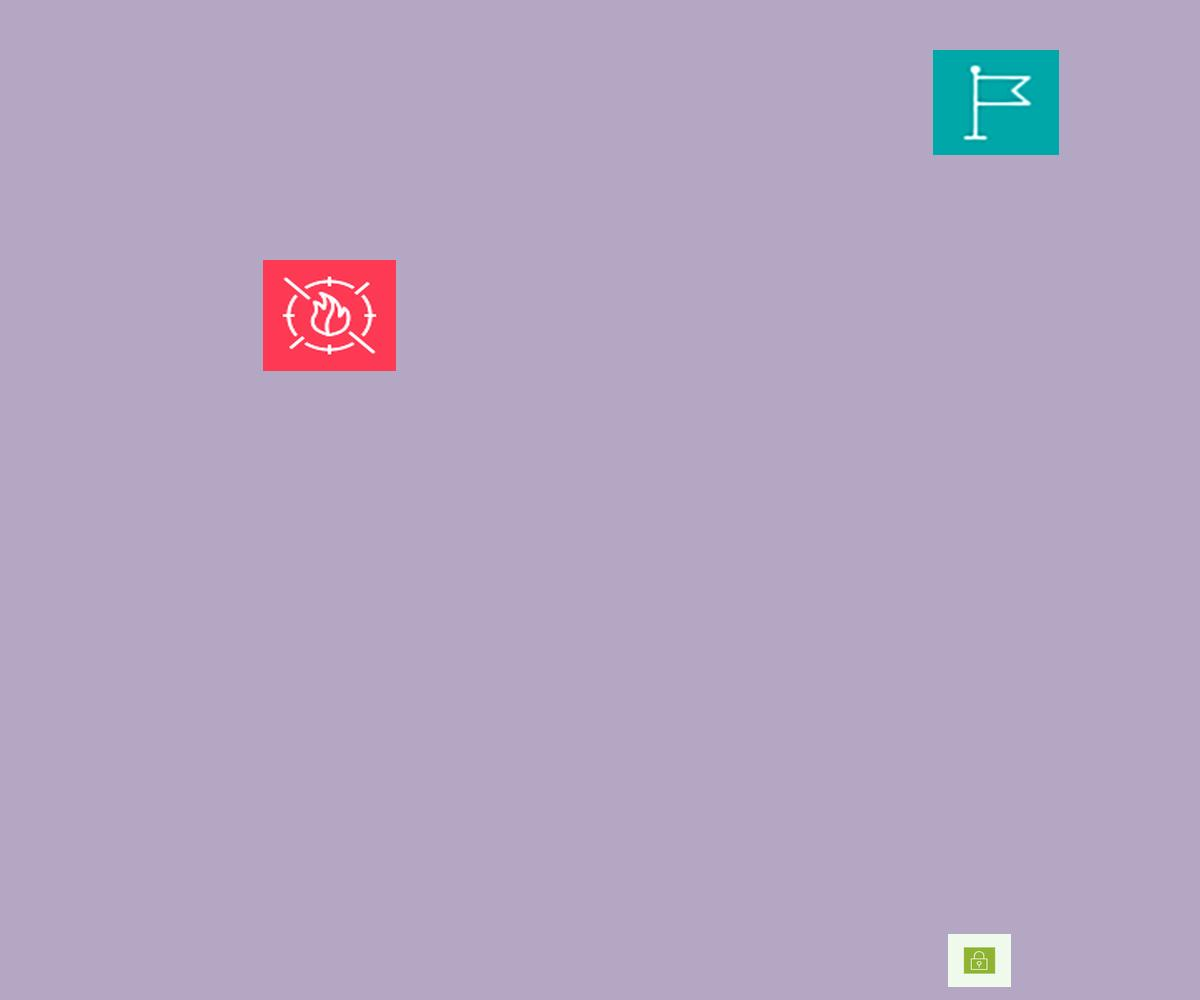AWS-Public-subnet: (948, 934, 1011, 987)
AWS-Region: (933, 50, 1059, 155)
AWS-WAF: (263, 260, 396, 371)
